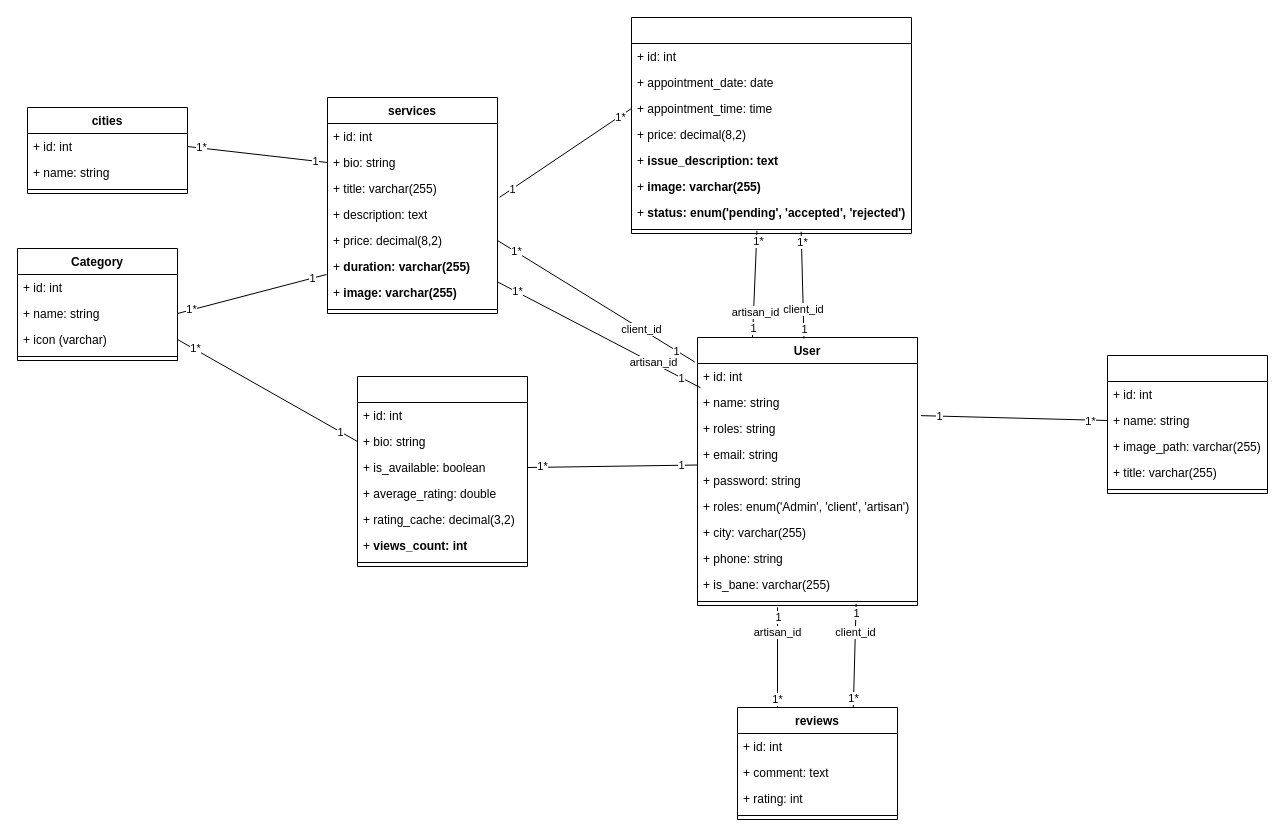
Image size: 1285x837. Some labels were removed from this diagram. The shapes that lost their labels are listed below. From the top down, each one's box as (x1, y1, x2, y2) in pixels, then its label:
(630, 16, 912, 234): bookings
(1106, 354, 1268, 494): portfolios
(356, 376, 528, 566): artisan_profiles
